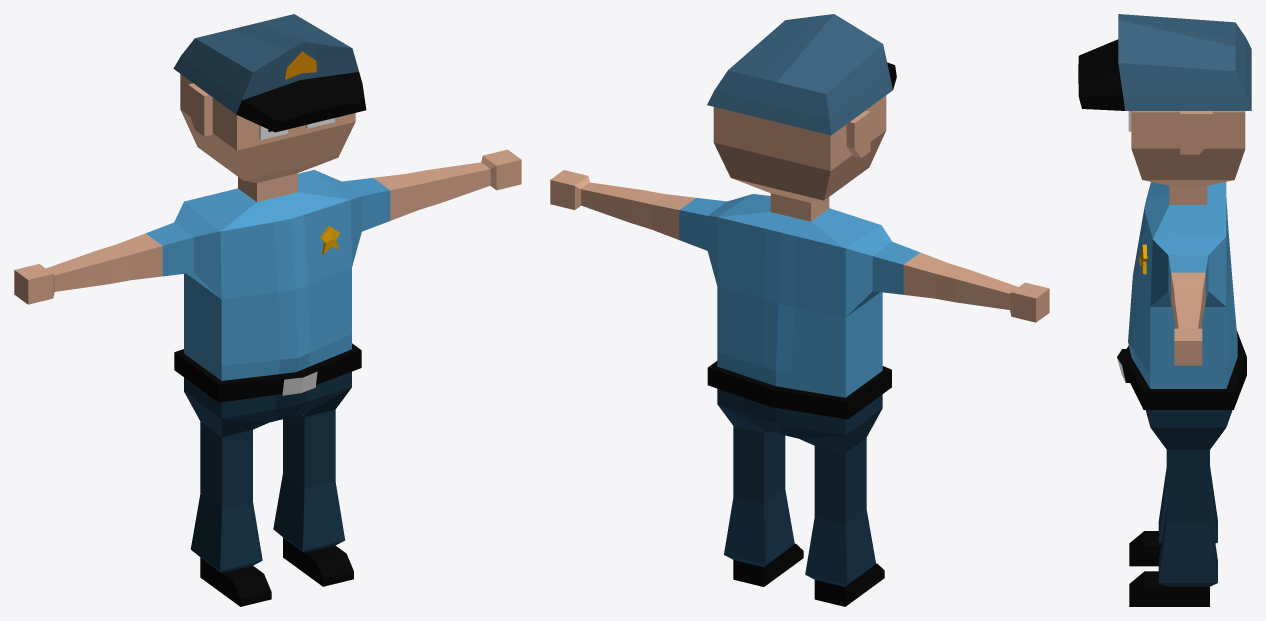
File: security.fbx
The picture shows the model from 3 angles, left to right: view 1: azimuth 30°, elevation 25°; view 2: azimuth 150°, elevation 25°; view 3: azimuth 270°, elevation 25°; orthographic projection. The views are drawn at different scales.
Parts seen in each view (by area): view 1: Police, Police Hat; view 2: Police, Police Hat; view 3: Police, Police Hat.
Part boxes in pixels (box(x1,y1,x2,y2)): Police: box(14, 74, 521, 606); Police Hat: box(173, 14, 366, 132); Police: box(550, 95, 1049, 606); Police Hat: box(707, 14, 896, 135); Police: box(1117, 111, 1246, 606); Police Hat: box(1078, 14, 1251, 110).
Size of the model in its own units: 154 by 166 by 46.51.
